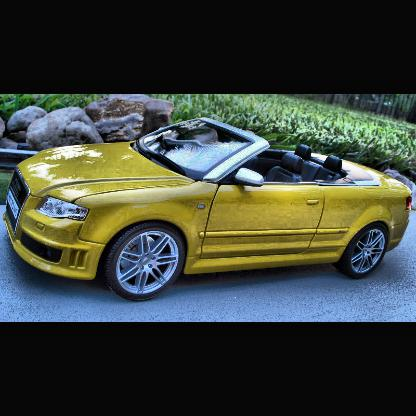Audi RS 4 Convertible 2008: (4, 116, 415, 305)
